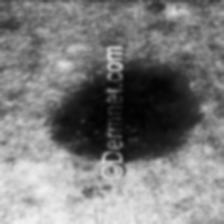Potentially Malignant Skin Tumors: (130, 58, 192, 172), (51, 64, 103, 180)
